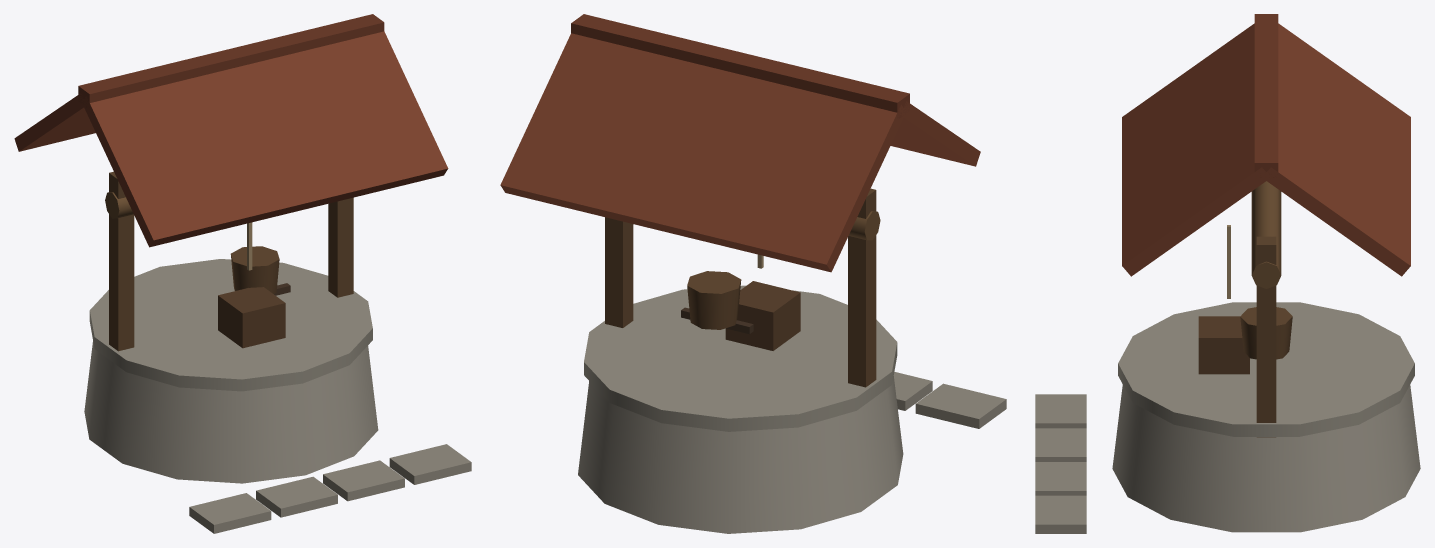
The model's file is procedural_well@4.glb.
3 views of the same model, side by side, from view 1: azimuth 30°, elevation 25°; view 2: azimuth 150°, elevation 25°; view 3: azimuth 270°, elevation 25° (orthographic). The views are drawn at different scales.
Parts seen in each view (by area): view 1: part_0; view 2: part_0; view 3: part_0.
Boxes of the visible parts, x1,y1,x2,y2 form: part_0: [14, 14, 471, 533]; part_0: [500, 14, 1006, 533]; part_0: [1035, 14, 1420, 533].
Size of the model in its own units: 3.09 by 3.68 by 3.38.
